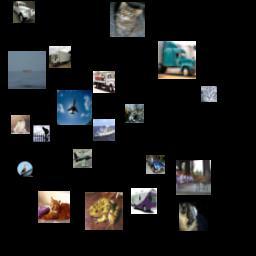airplane: (57, 90, 92, 125), (73, 149, 92, 168)
automobile: (13, 1, 35, 23), (146, 155, 165, 174)
bird: (17, 161, 33, 177)
cat: (110, 2, 145, 37), (38, 191, 70, 223), (32, 124, 51, 143), (11, 115, 30, 134), (201, 86, 217, 102)
deer: (176, 160, 211, 195)
dog: (179, 202, 208, 231)
frog: (85, 192, 123, 230), (125, 104, 144, 123)
ship: (8, 51, 46, 89), (93, 119, 115, 141)
truck: (158, 41, 196, 79), (131, 188, 157, 214), (49, 46, 71, 68), (93, 71, 115, 93)
